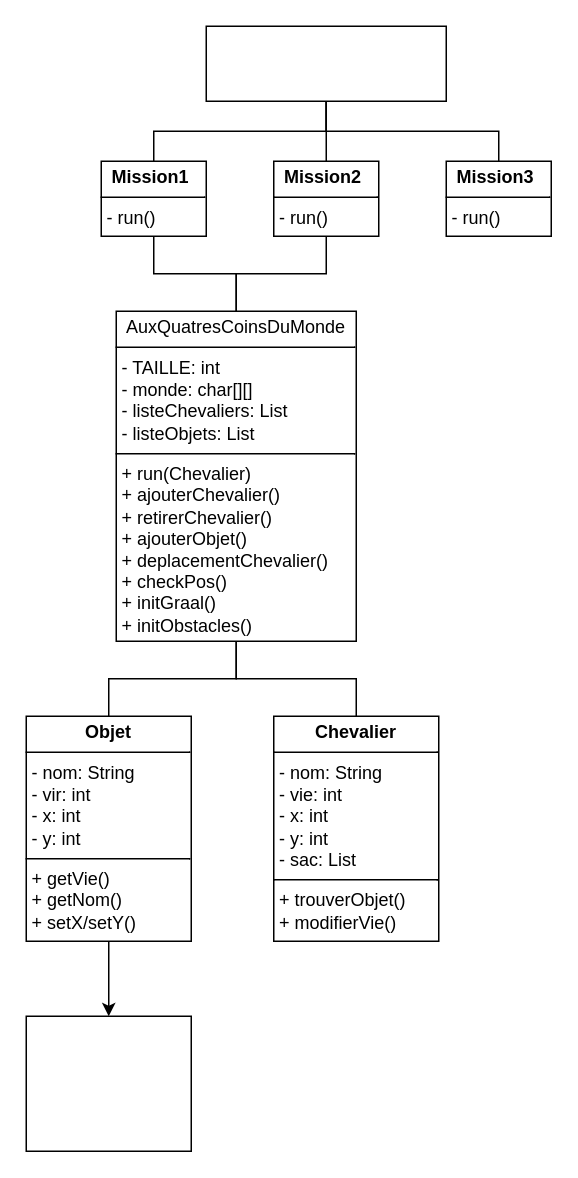
Some shapes in this 578 by 1178 pixel diagram are drawn without their labels. Each missing label, with the box of its shape:
Graal - poids: int + getPoids(): (25, 1015, 191, 1151)
main + main(): (205, 25, 446, 101)
